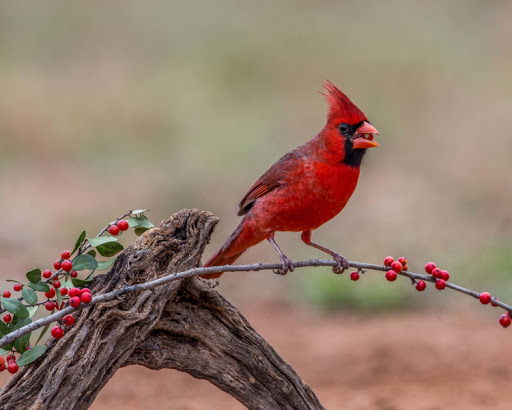bird: (234, 99, 372, 254)
